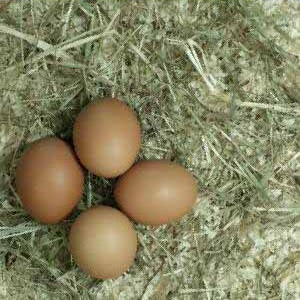egg: (16, 137, 84, 223), (113, 161, 197, 225), (73, 99, 141, 178), (69, 204, 138, 278)
